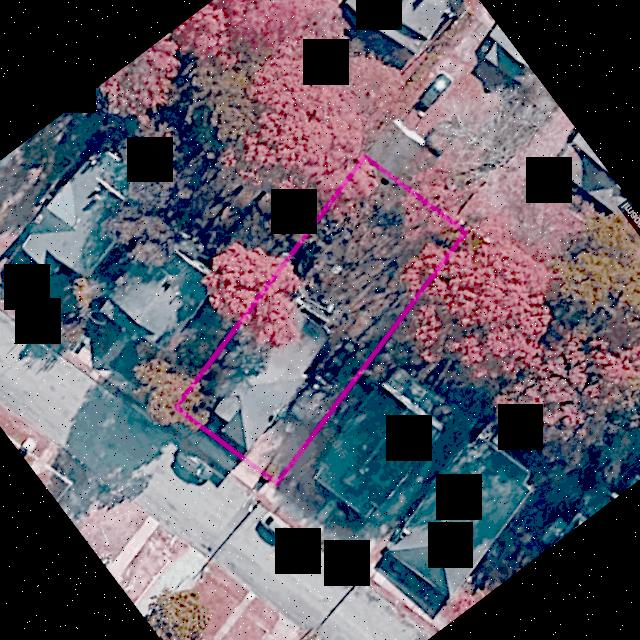Extra Sidewalk: (170, 417, 269, 492)
House: (192, 283, 338, 450)
